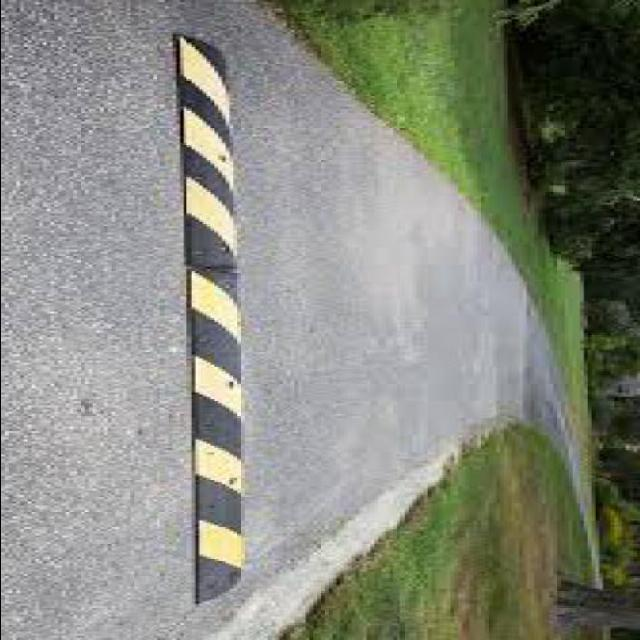speedbreaker: (155, 24, 277, 632)
